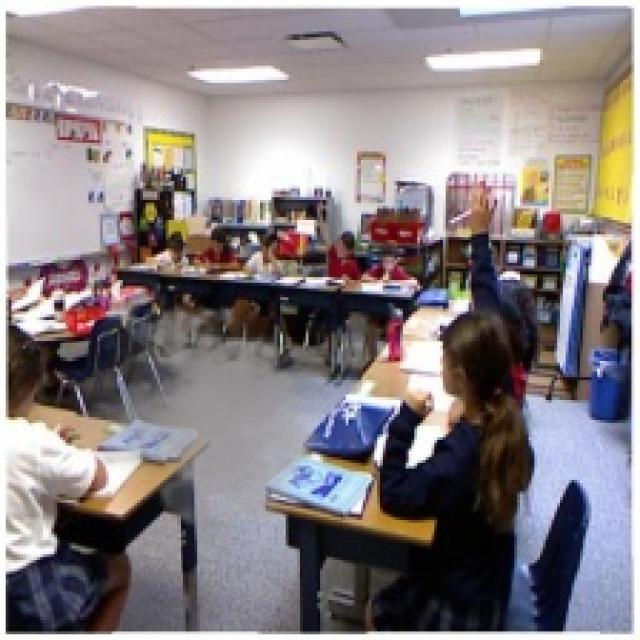smoke: (69, 292, 328, 548)
